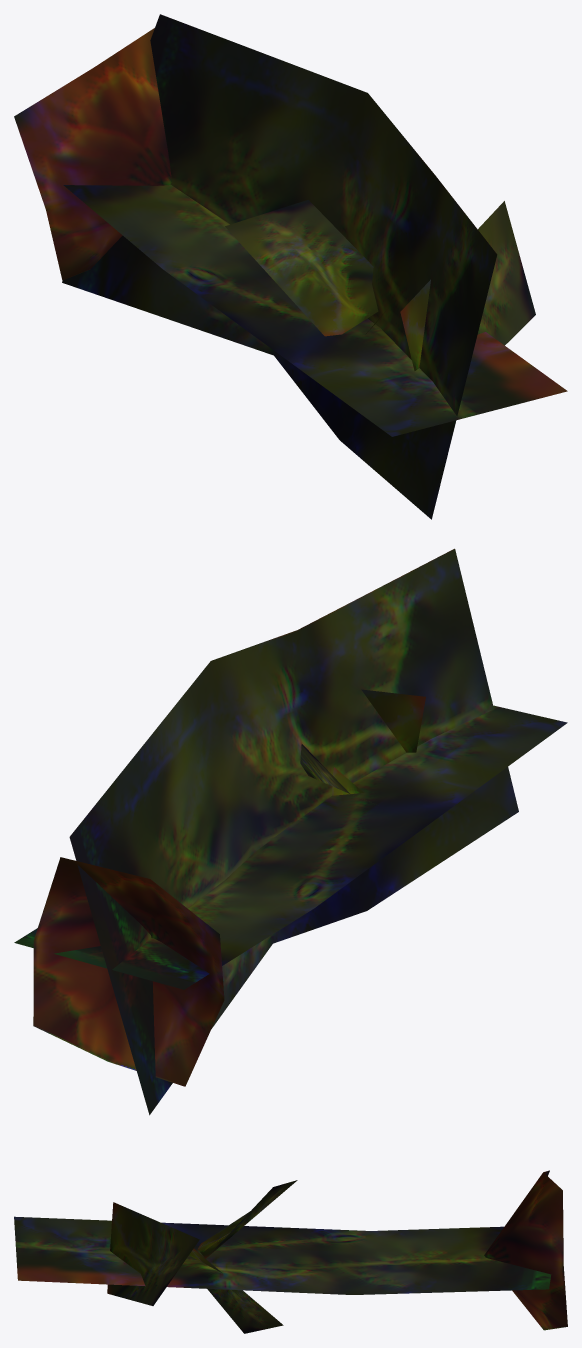
Rendered from Red_Poppy_vcta.fbx.
3 views of the same model, one above another, from view 1: azimuth 30°, elevation 25°; view 2: azimuth 150°, elevation 25°; view 3: azimuth 270°, elevation 25° (orthographic). The views are drawn at different scales.
Parts seen in each view (by area): view 1: Red_Poppy; view 2: Red_Poppy; view 3: Red_Poppy.
Boxes of the visible parts, x1=… form: Red_Poppy: x1=14, y1=14, x2=567, y2=519; Red_Poppy: x1=14, y1=548, x2=567, y2=1115; Red_Poppy: x1=14, y1=1170, x2=567, y2=1333.
Size of the model in its own units: 0.6896 by 0.7696 by 1.78.
